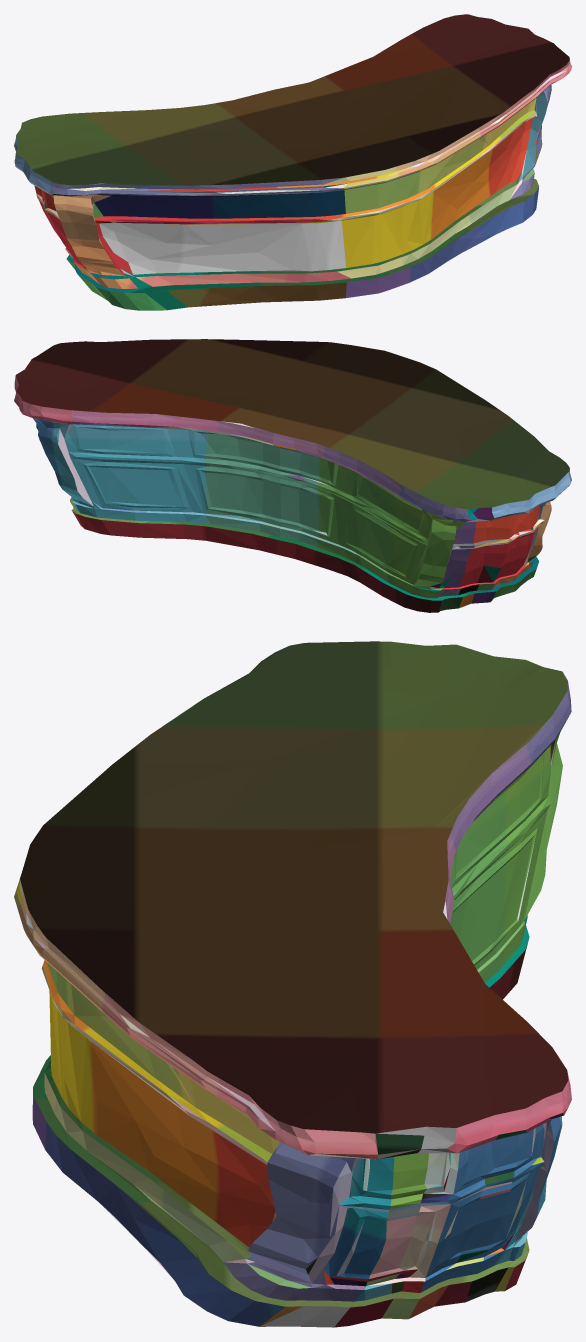
Rendered from potion_table.fbx.
3 views of the same model, one above another, from view 1: azimuth 30°, elevation 25°; view 2: azimuth 150°, elevation 25°; view 3: azimuth 270°, elevation 25° (orthographic). The views are drawn at different scales.
Visible parts, largest first — view 1: potion_table; view 2: potion_table; view 3: potion_table.
Boxes of the visible parts, box(x1,y1,x2,y2) form: potion_table: box(14, 14, 571, 310); potion_table: box(14, 339, 571, 612); potion_table: box(14, 641, 571, 1327).
Size of the model in its own units: 3.59 by 0.8448 by 1.7.
